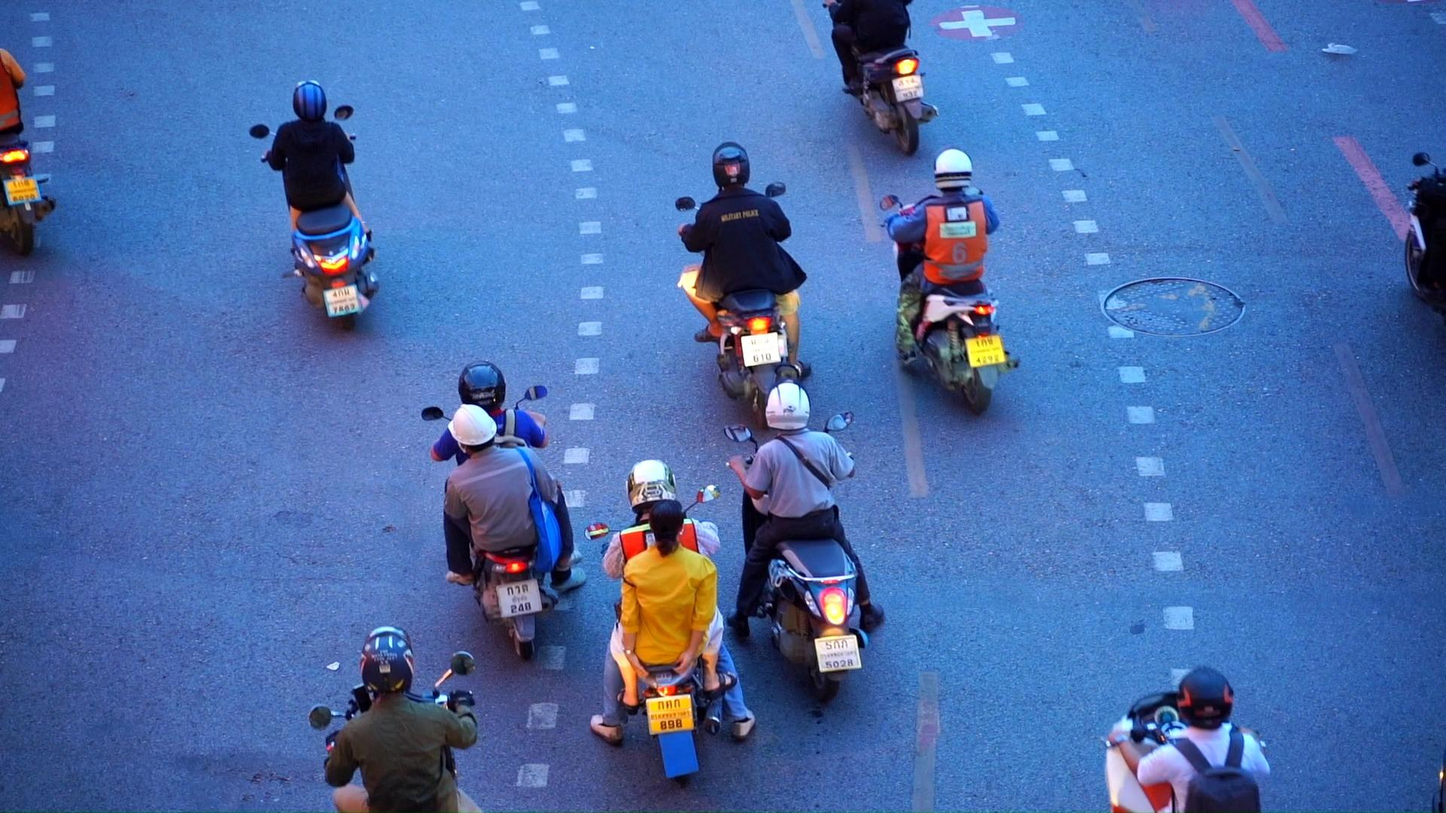driver: (583, 458, 756, 789), (723, 378, 884, 703), (422, 359, 586, 662), (675, 141, 813, 431), (879, 144, 1022, 417), (249, 79, 378, 333), (309, 626, 484, 813), (1105, 665, 1271, 813), (823, 0, 939, 156), (0, 48, 57, 257)
helmet: (359, 626, 415, 700), (1177, 666, 1234, 721), (625, 458, 677, 514), (447, 404, 498, 456), (458, 360, 506, 412), (765, 379, 811, 432), (712, 141, 750, 193), (934, 144, 972, 192), (293, 79, 327, 122)
no-helmet: (649, 499, 685, 558)
